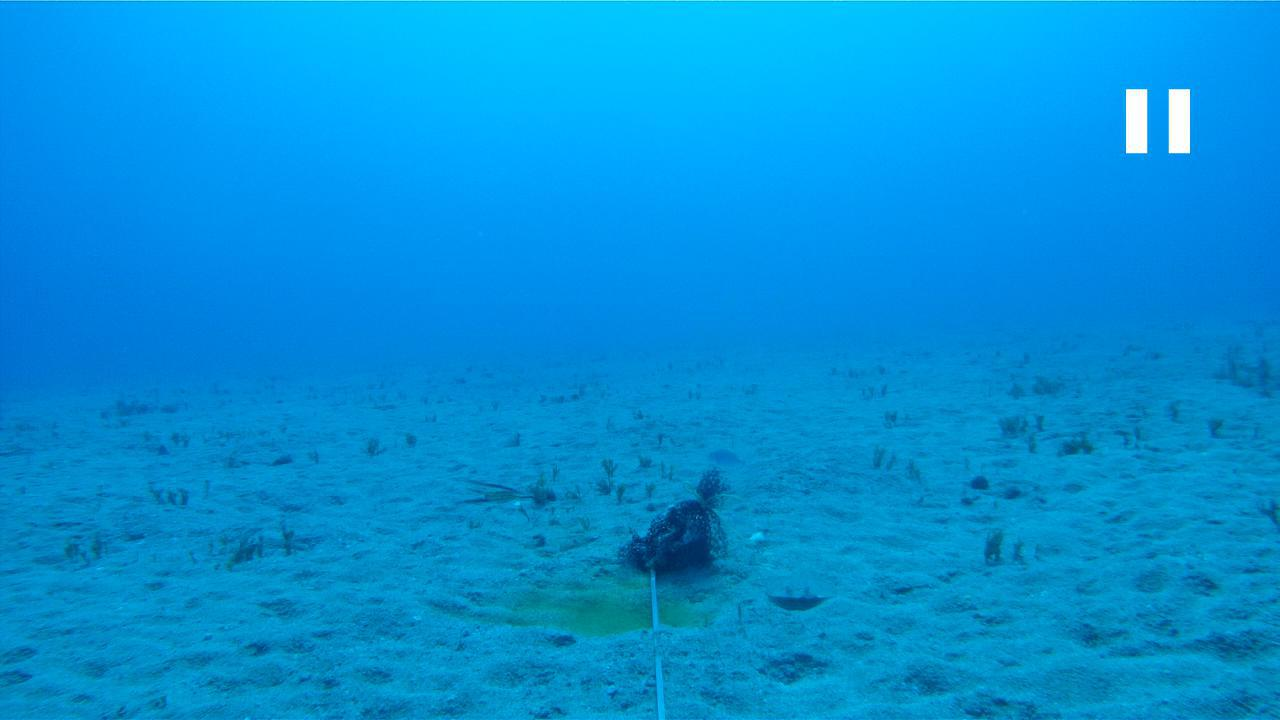bothus: (766, 564, 834, 607)
pagellus: (706, 447, 752, 472)
